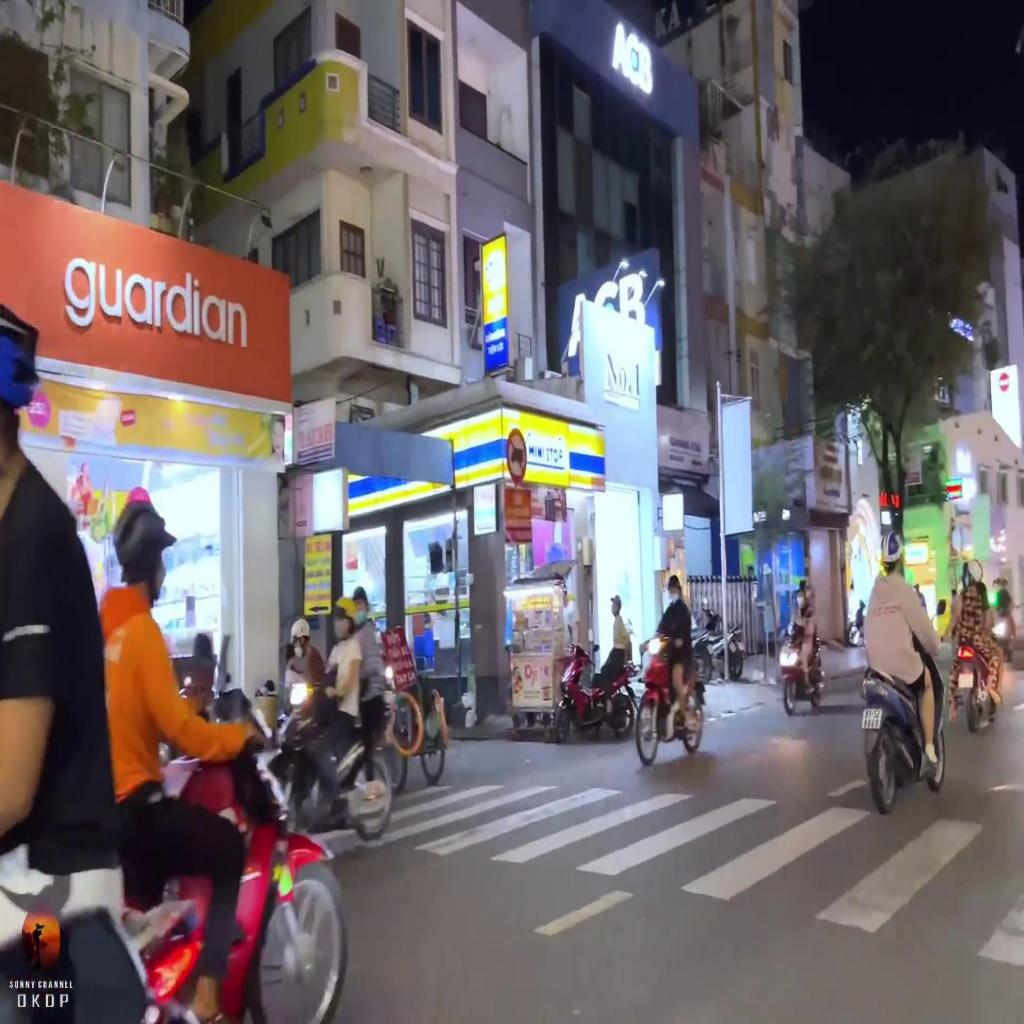cam_o_to_tai: (506, 425, 528, 484)
